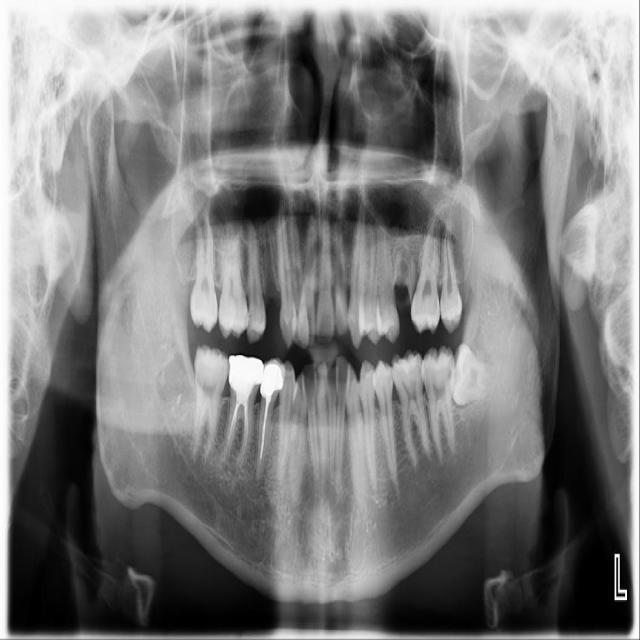52: (225, 354, 266, 393), (258, 356, 287, 400)
73: (214, 378, 260, 473), (243, 386, 279, 484), (580, 533, 586, 558)
BioHorizons Implant: (410, 217, 442, 336)
BioLife Implant: (438, 214, 468, 335)
Biomet 3i Implant: (442, 341, 502, 412)
Blue Sky Bio Implant: (418, 344, 467, 464)
Caries: (189, 217, 218, 332)
Keystone Dental Implant: (192, 344, 230, 468)
